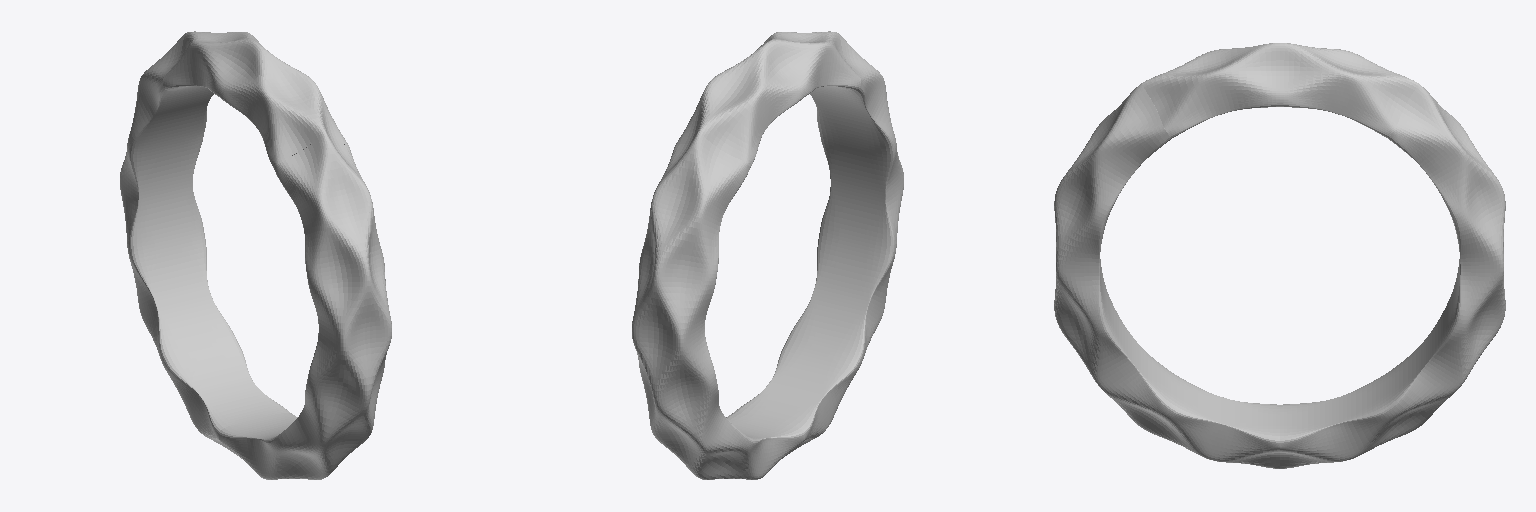
Rendered from White_Gold_Ring.obj.
3 renders of one model, left to right at view 1: azimuth 30°, elevation 25°; view 2: azimuth 150°, elevation 25°; view 3: azimuth 270°, elevation 25°, orthographic.
Visible parts, largest first — view 1: jwelry-6; view 2: jwelry-6; view 3: jwelry-6.
Part boxes in pixels (bbox=[...]): jwelry-6: bbox=[120, 31, 391, 479]; jwelry-6: bbox=[632, 31, 903, 479]; jwelry-6: bbox=[1054, 43, 1505, 468].
Bounding box in the file's own units: 4 × 21.93 × 21.08.